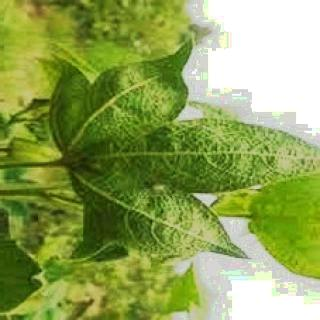curl: (61, 43, 311, 265)
